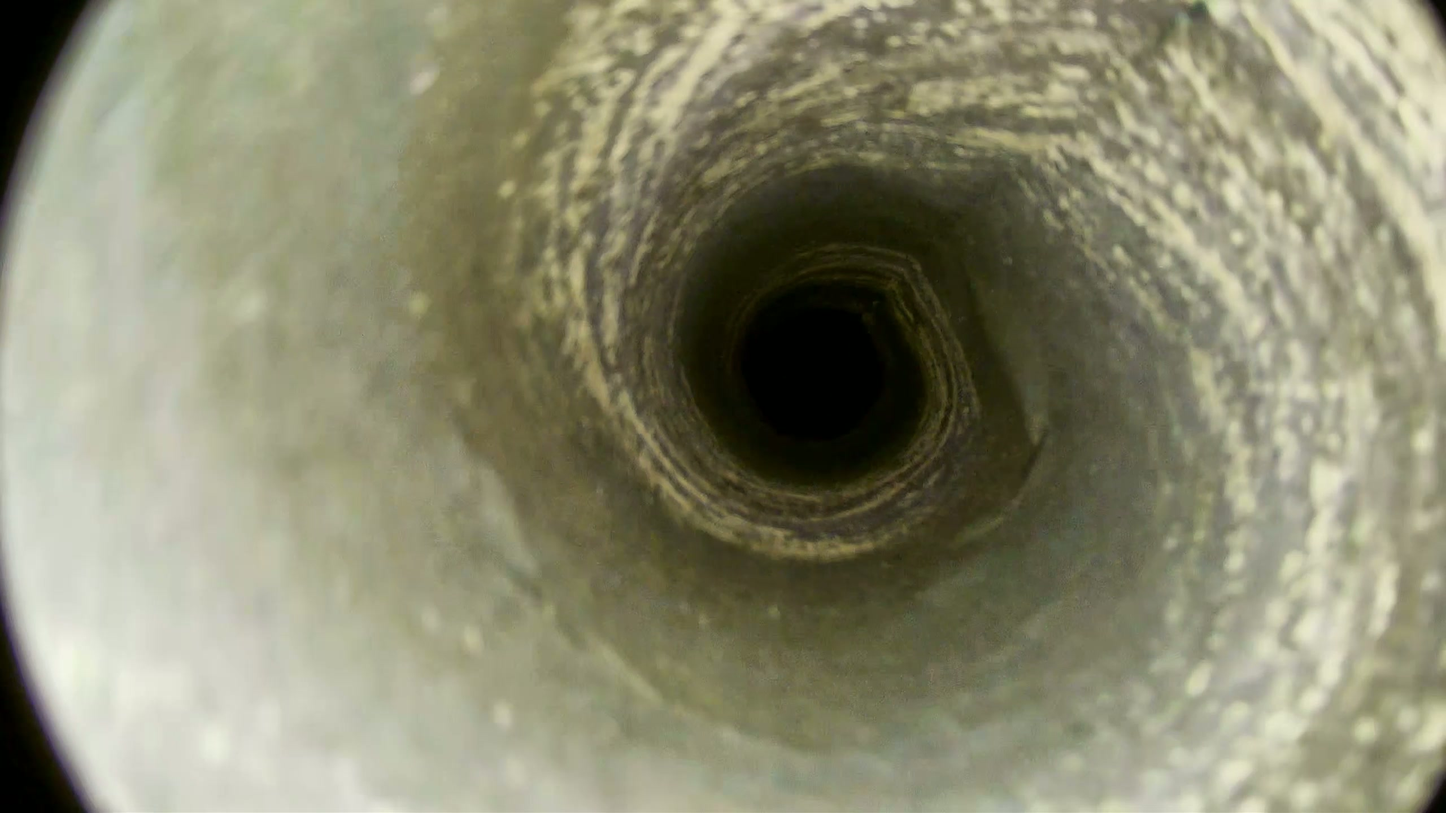hole: (745, 309, 882, 439)
